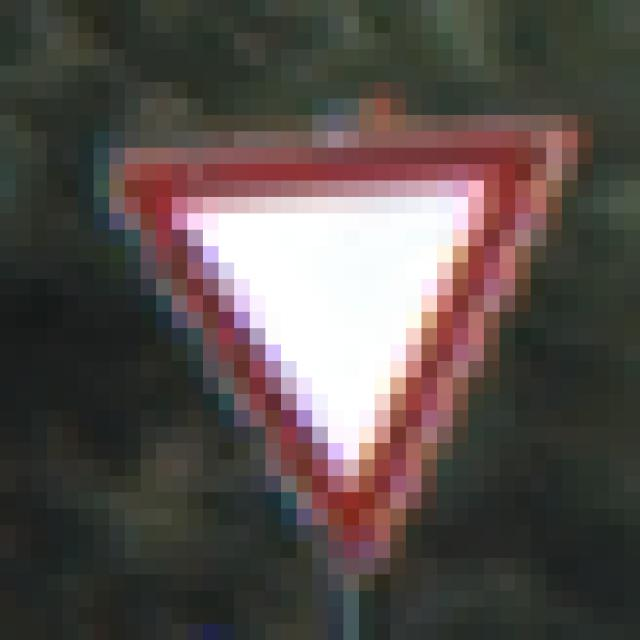Give Way: (79, 83, 547, 543)
